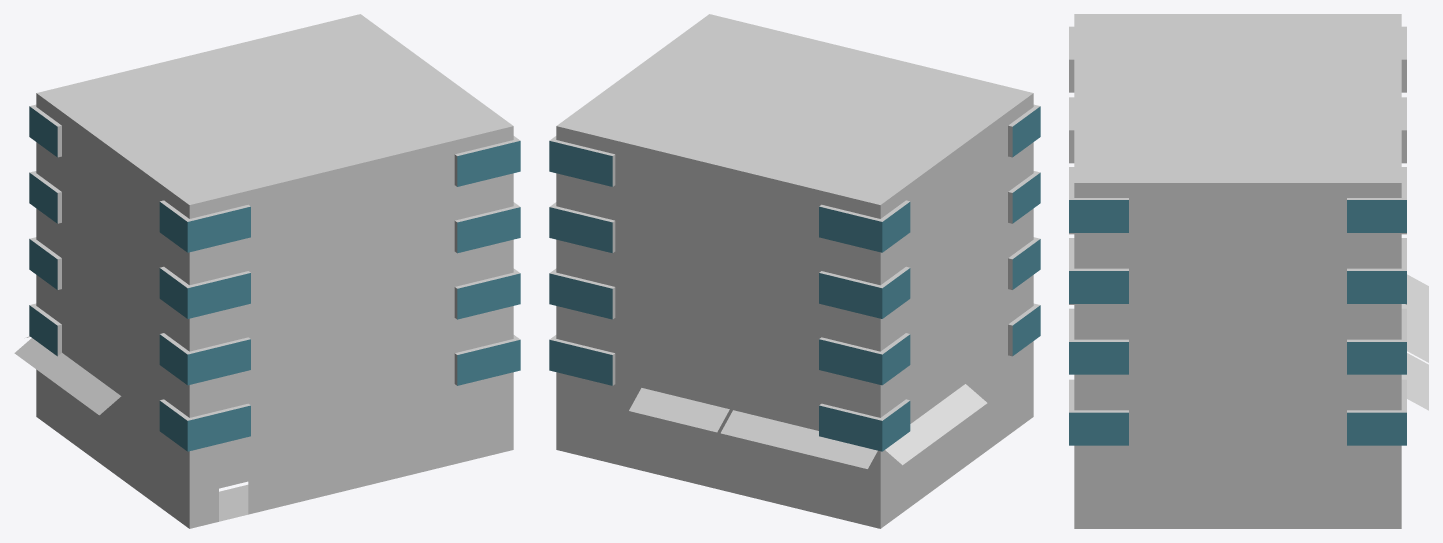
The model's file is bs_block_medium_04.glb.
3 renders of one model, left to right at view 1: azimuth 30°, elevation 25°; view 2: azimuth 150°, elevation 25°; view 3: azimuth 270°, elevation 25°, orthographic. The views are drawn at different scales.
Visible parts, largest first — view 1: exterior_walls-col, G-__557535; view 2: exterior_walls-col, G-__557544, G-__557535, G-__557553; view 3: exterior_walls-col, G-__557544, G-__557553.
Boxes of the visible parts, x1,y1,x2,y2 form: exterior_walls-col: (29, 14, 520, 528); G-__557535: (14, 338, 121, 415); exterior_walls-col: (549, 14, 1040, 528); G-__557544: (721, 410, 877, 468); G-__557535: (885, 384, 987, 465); G-__557553: (629, 388, 729, 432); exterior_walls-col: (1069, 14, 1406, 528); G-__557544: (1401, 274, 1428, 362); G-__557553: (1401, 353, 1428, 410).
Size of the model in its own units: 23.8 by 21 by 19.8.
